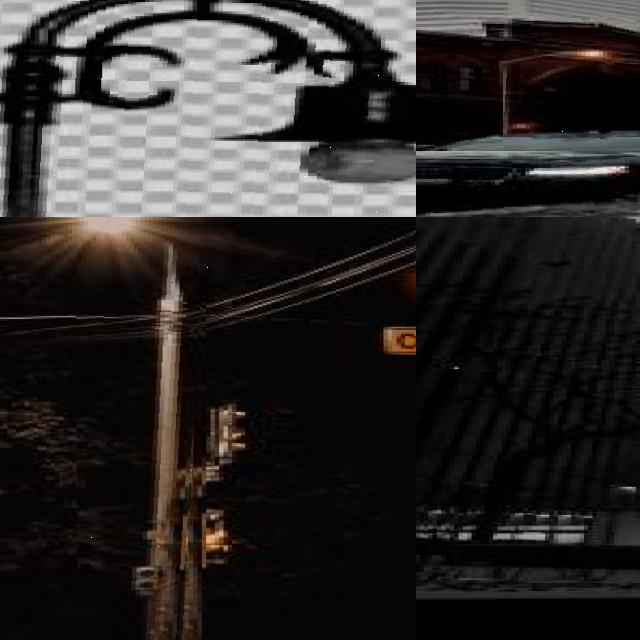street light: (0, 0, 416, 217), (77, 217, 208, 640), (503, 52, 615, 147), (611, 487, 637, 531)
